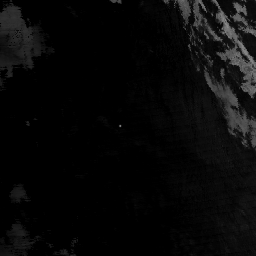Target: (118, 123, 122, 127)
